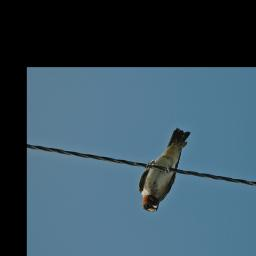Swallow: (138, 127, 192, 214)
